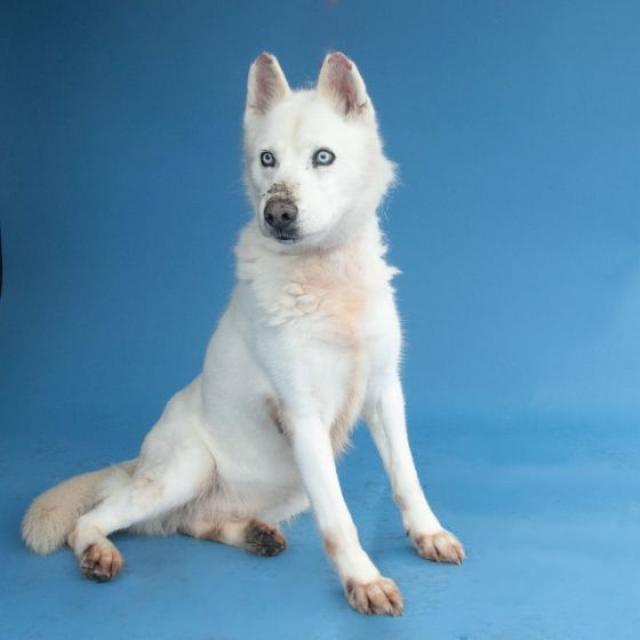siberian_husky_dog: (230, 38, 392, 262)
